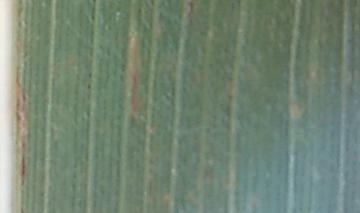tarspot: (20, 151, 26, 176), (85, 82, 93, 91), (87, 70, 93, 79), (136, 6, 141, 15), (149, 1, 155, 6)
